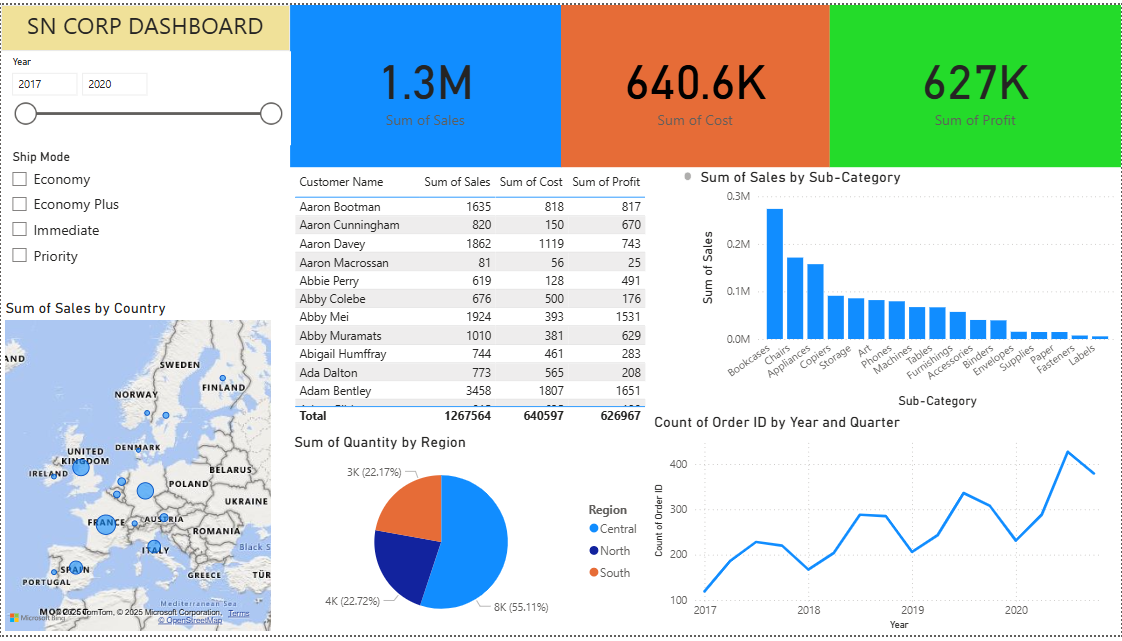

What the dashboard file says about the page in this screenshot:
{"tool":"powerbi","page":{"name":"Page 1","canvas":[1280,720],"ordinal":0},"visuals":[{"type":"card","fields":{"Values":["List of Orders.Sales"]},"box":[330,0,310,185.7],"z":0},{"type":"card","fields":{"Values":["List of Orders.Cost"]},"box":[640,0,307.1,185.7],"z":1000},{"type":"card","fields":{"Values":["List of Orders.Profit"]},"box":[947.1,0,332.9,185.7],"z":2000},{"type":"tableEx","fields":{"Values":["List of Orders.Customer Name","List of Orders.Sales","List of Orders.Cost","List of Orders.Profit"]},"box":[330,185.7,464.3,298.6],"z":3000},{"type":"clusteredColumnChart","fields":{"Y":["List of Orders.Sales"],"Category":["List of Orders.Sub-Category"]},"box":[794.3,185.7,485.7,280],"z":4000},{"type":"pieChart","fields":{"Y":["List of Orders.Quantity"],"Category":["List of Orders.Region"]},"box":[330,488.6,411.4,231.4],"z":5000},{"type":"map","fields":{"Category":["List of Orders.Country"],"Size":["List of Orders.Sales"]},"box":[0,335.7,314.3,384.3],"z":6000},{"type":"lineChart","fields":{"Y":["List of Orders.Order ID"],"Category":["List of Orders.Order Date.Variation.Date Hierarchy.Year","List of Orders.Order Date.Variation.Date Hierarchy.Quarter"]},"box":[741.4,465.7,525.7,254.3],"z":7000},{"type":"textbox","box":[0,0,330,52.9],"z":8000},{"type":"slicer","fields":{"Values":["List of Orders.Ship Mode"]},"box":[0,160,330,165.7],"z":9000},{"type":"slicer","fields":{"Values":["List of Orders.Order Date.Variation.Date Hierarchy.Year"]},"box":[0,52.9,330,107.1],"z":10000}]}

Visuals, with their boxes in screenshot pixels (x1, y1, x2, y2), scaled from the page's 1280x720 canvas onto the 1122x641 screenshot:
card - List of Orders.Sales: crop(289, 0, 561, 165)
card - List of Orders.Cost: crop(561, 0, 830, 165)
card - List of Orders.Profit: crop(830, 0, 1121, 165)
tableEx - List of Orders.Customer Name x List of Orders.Sales: crop(289, 165, 696, 431)
clusteredColumnChart - List of Orders.Sales x List of Orders.Sub-Category: crop(696, 165, 1121, 415)
pieChart - List of Orders.Quantity x List of Orders.Region: crop(289, 435, 650, 640)
map - List of Orders.Country x List of Orders.Sales: crop(0, 299, 276, 640)
lineChart - List of Orders.Order ID x List of Orders.Order Date.Variation.Date Hierarchy.Year: crop(650, 415, 1111, 640)
textbox: crop(0, 0, 289, 47)
slicer - List of Orders.Ship Mode: crop(0, 142, 289, 290)
slicer - List of Orders.Order Date.Variation.Date Hierarchy.Year: crop(0, 47, 289, 142)
